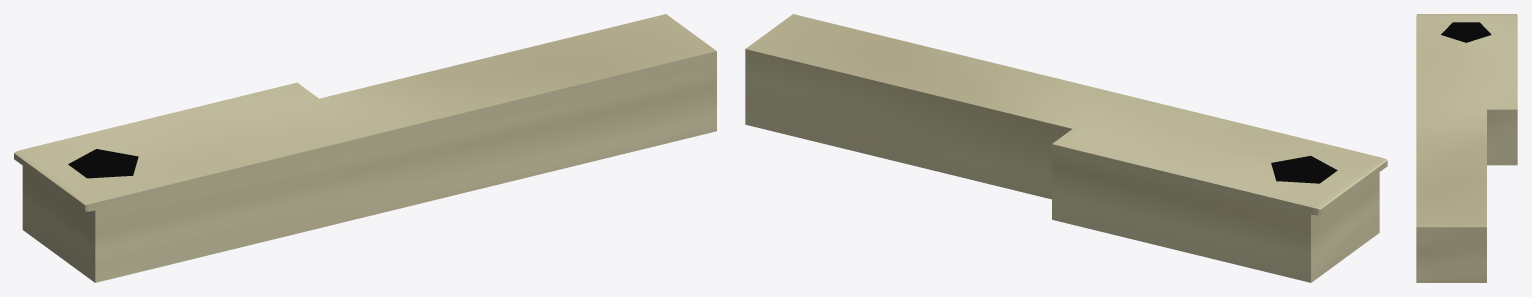
File: E_key.obj
The picture shows the model from 3 angles, left to right: view 1: azimuth 30°, elevation 25°; view 2: azimuth 150°, elevation 25°; view 3: azimuth 270°, elevation 25°; orthographic projection. The views are drawn at different scales.
Parts seen in each view (by area): view 1: E_key; view 2: E_key; view 3: E_key.
Part boxes in pixels (x1=…): E_key: x1=14, y1=14, x2=716, y2=282; E_key: x1=745, y1=14, x2=1387, y2=282; E_key: x1=1416, y1=14, x2=1517, y2=282.
Size of what is drawn, in the model's own units: 17.27 by 2.12 by 3.45.
2 materials, 2 textured.
